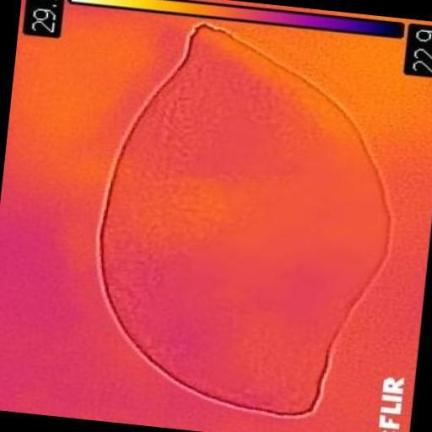mango: (103, 28, 387, 414)
